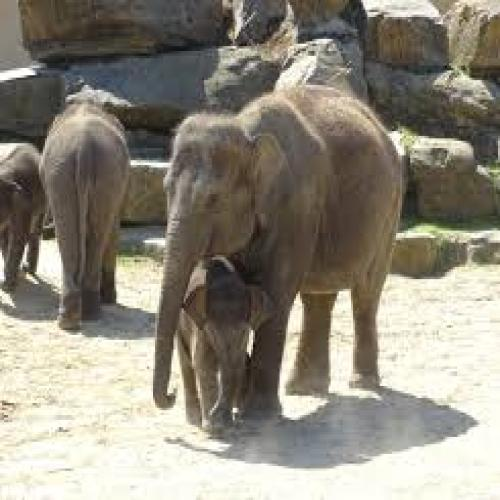asian_elephant-endangered: (147, 84, 404, 411), (38, 93, 136, 335), (171, 254, 267, 440), (0, 131, 45, 302)
